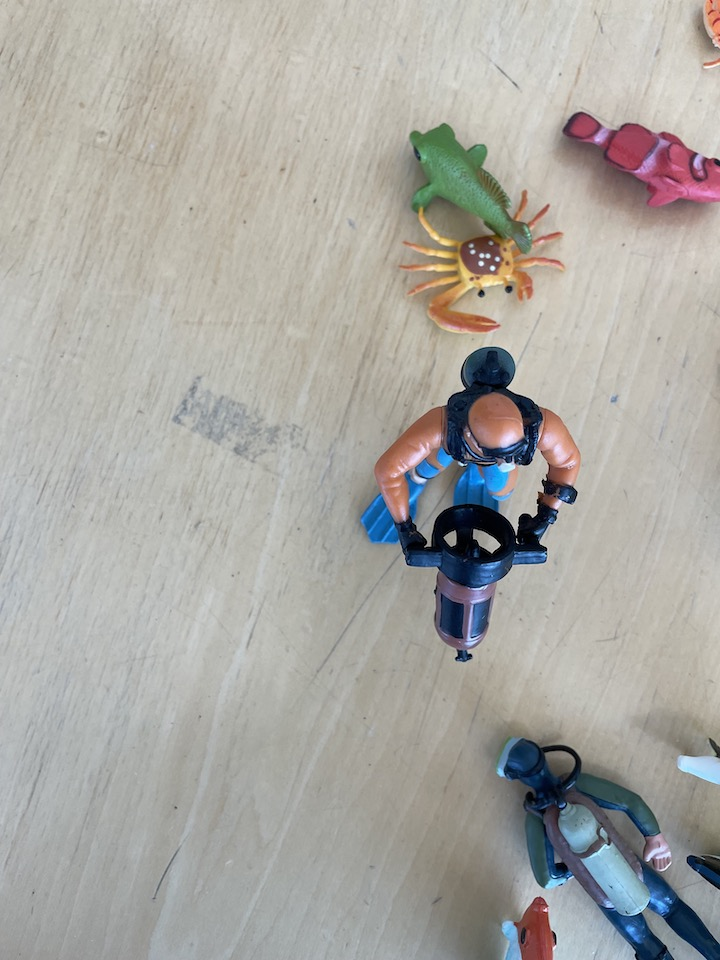crab: (397, 183, 567, 334)
diver: (362, 340, 591, 664), (496, 727, 720, 960)
fish: (404, 115, 541, 257), (560, 102, 720, 215), (486, 894, 564, 960)
